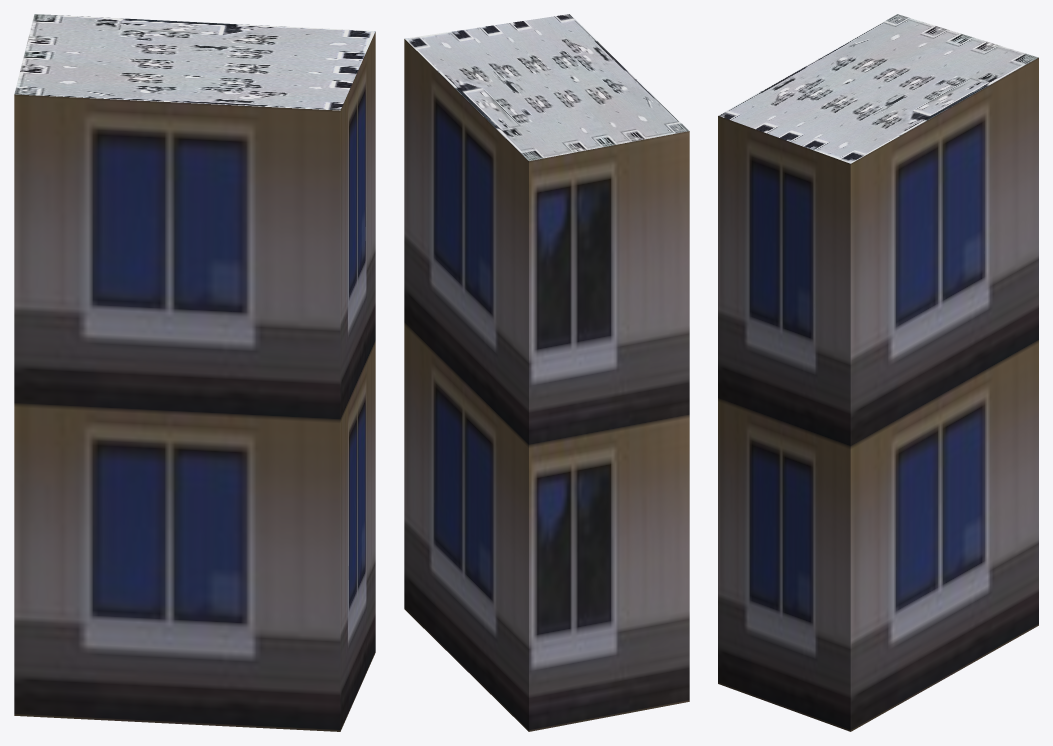
File: ResTex__266.fbx
The picture shows the model from 3 angles, left to right: view 1: azimuth 30°, elevation 25°; view 2: azimuth 150°, elevation 25°; view 3: azimuth 270°, elevation 25°; orthographic projection. The views are drawn at different scales.
Parts seen in each view (by area): view 1: CityEngineMaterial_5_m, CityEngineMaterial_2_m; view 2: CityEngineMaterial_5_m, CityEngineMaterial_2_m; view 3: CityEngineMaterial_5_m, CityEngineMaterial_2_m.
Part boxes in pixels (x1,y1,x2,y2): CityEngineMaterial_5_m: (14, 32, 375, 731); CityEngineMaterial_2_m: (14, 14, 375, 110); CityEngineMaterial_5_m: (404, 39, 689, 731); CityEngineMaterial_2_m: (405, 14, 688, 160); CityEngineMaterial_5_m: (718, 57, 1038, 731); CityEngineMaterial_2_m: (718, 14, 1038, 163).
Size of the model in its own units: 3.39 by 6 by 3.07.
2 materials, 2 textured.
